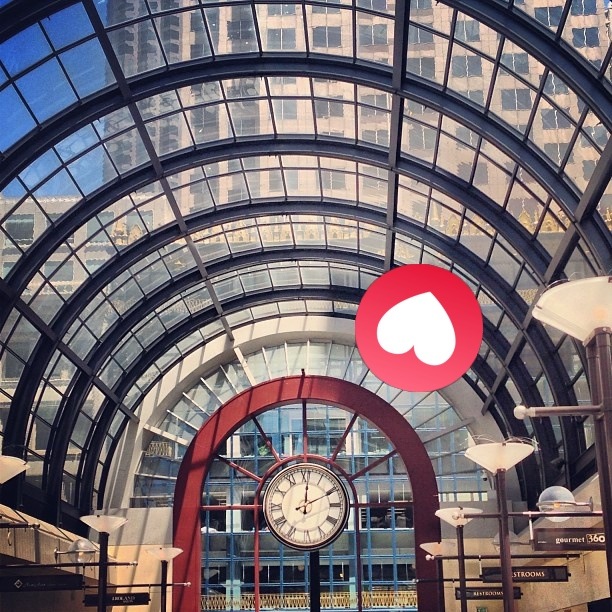love: (355, 264, 483, 392)
